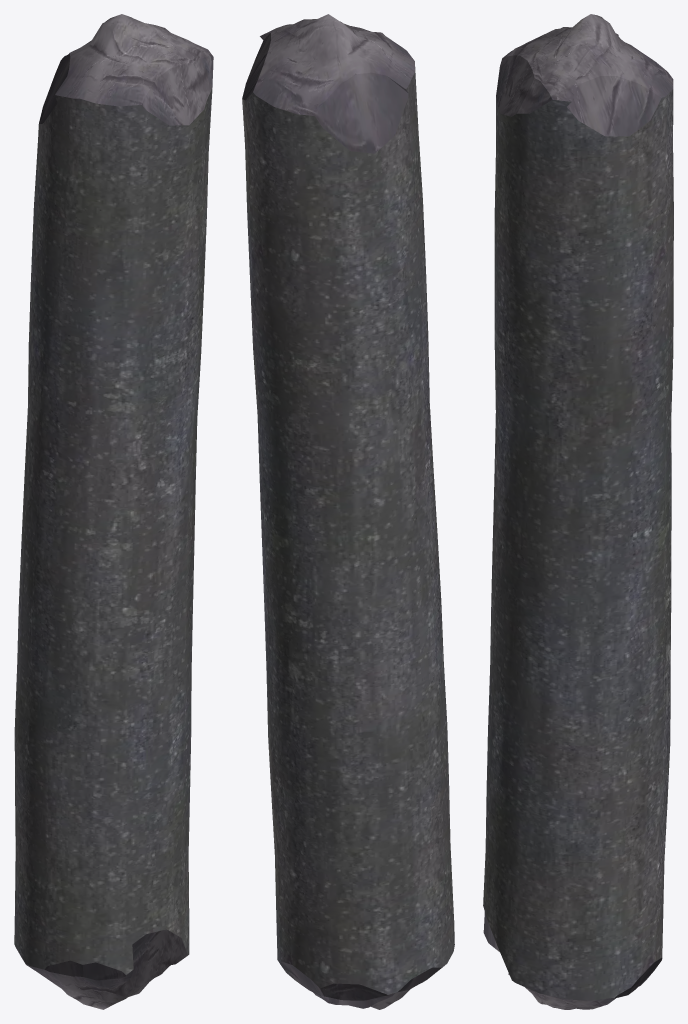
3 views of the same model, side by side, from view 1: azimuth 30°, elevation 25°; view 2: azimuth 150°, elevation 25°; view 3: azimuth 270°, elevation 25° (orthographic). The views are drawn at different scales.
Parts seen in each view (by area): view 1: SM_FH_Ash_Tree_02_quarter_03_LOD0; view 2: SM_FH_Ash_Tree_02_quarter_03_LOD0; view 3: SM_FH_Ash_Tree_02_quarter_03_LOD0.
Part boxes in pixels (left/top/right/bottom): SM_FH_Ash_Tree_02_quarter_03_LOD0: left=14, top=14, right=213, bottom=1009; SM_FH_Ash_Tree_02_quarter_03_LOD0: left=242, top=14, right=454, bottom=1009; SM_FH_Ash_Tree_02_quarter_03_LOD0: left=483, top=14, right=673, bottom=1009.
Bounding box in the file's own units: 0.4598 × 2.36 × 0.404.
Materials: 1 (1 with a texture image).
